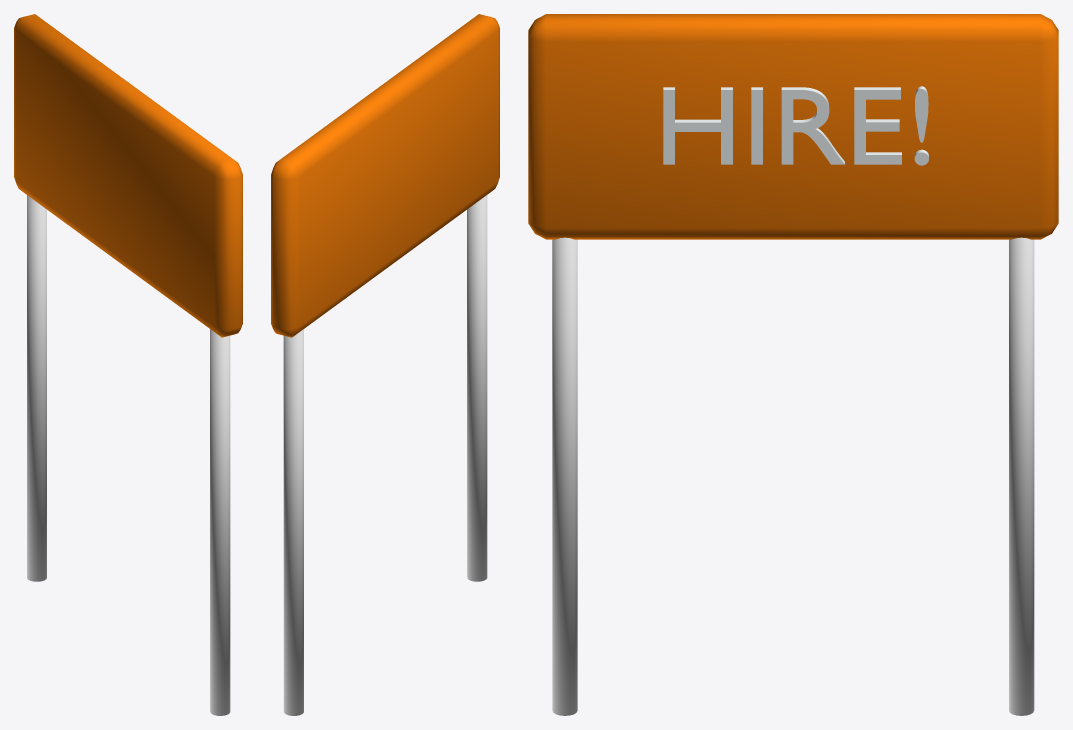
File: Hire.fbx
3 renders of one model, left to right at view 1: azimuth 30°, elevation 25°; view 2: azimuth 150°, elevation 25°; view 3: azimuth 270°, elevation 25°, orthographic. The views are drawn at different scales.
Parts seen in each view (by area): view 1: Cylinder; view 2: Cylinder; view 3: Cylinder.
Boxes of the visible parts, x1,y1,x2,y2 form: Cylinder: (14, 14, 242, 715); Cylinder: (271, 14, 499, 715); Cylinder: (528, 14, 1058, 715).
Size of the model in its own units: 28.9 by 494 by 343.
